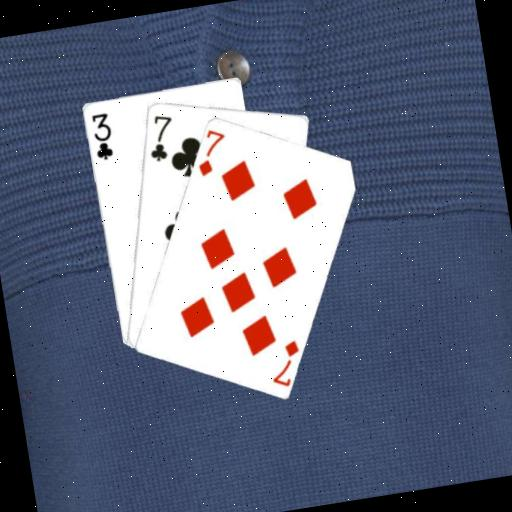3C: (85, 109, 116, 163)
7C: (141, 109, 179, 164)
7D: (188, 125, 232, 179), (262, 335, 305, 389)
